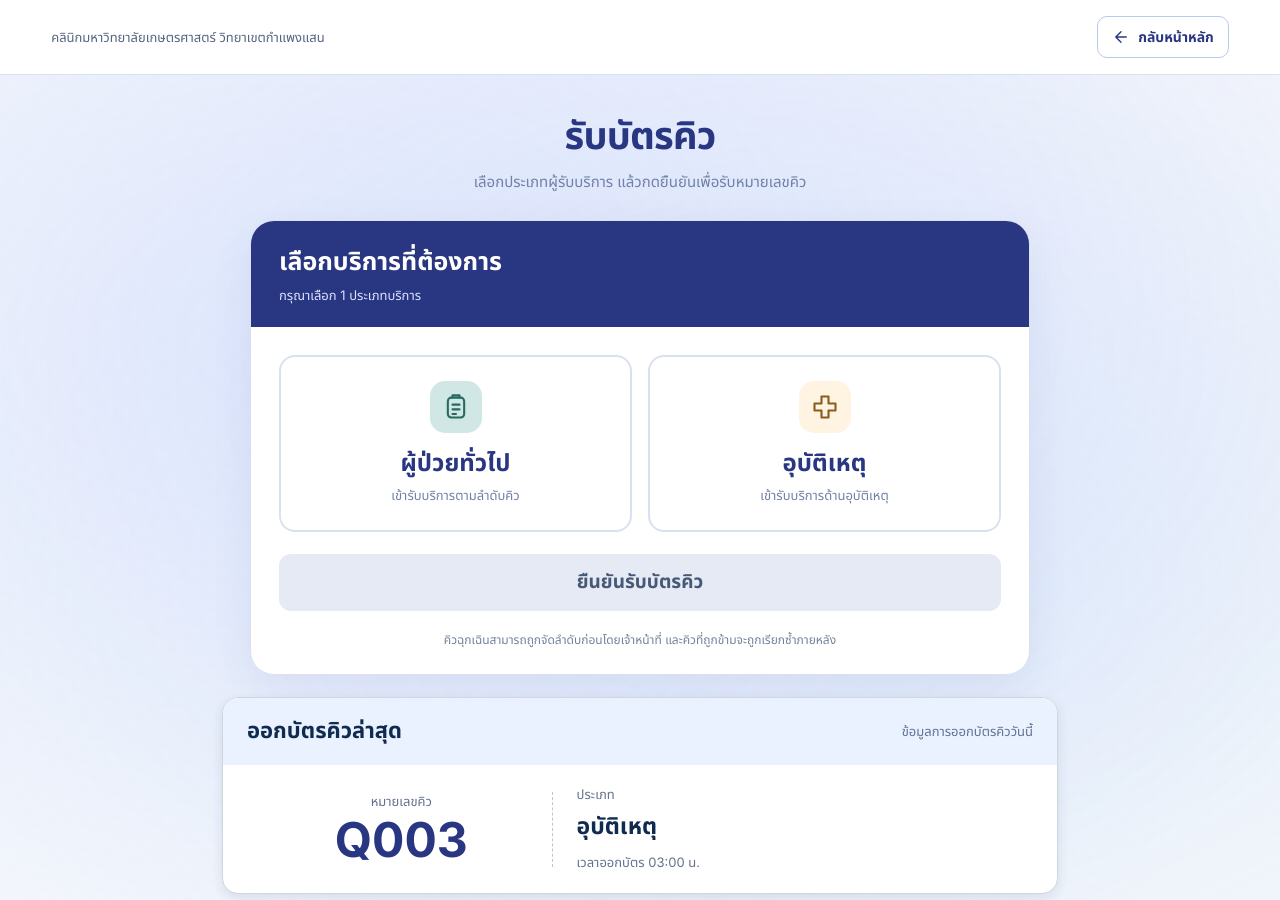
Scenario: application routes › keeps the latest issued ticket visible after choosing not to print
Expected: the text "ออกบัตรคิวล่าสุด" is shown, [247,715,402,748]
Click the text "ผู้ป่วยทั่วไป". click: (456, 463)
box: [400,445,511,481]
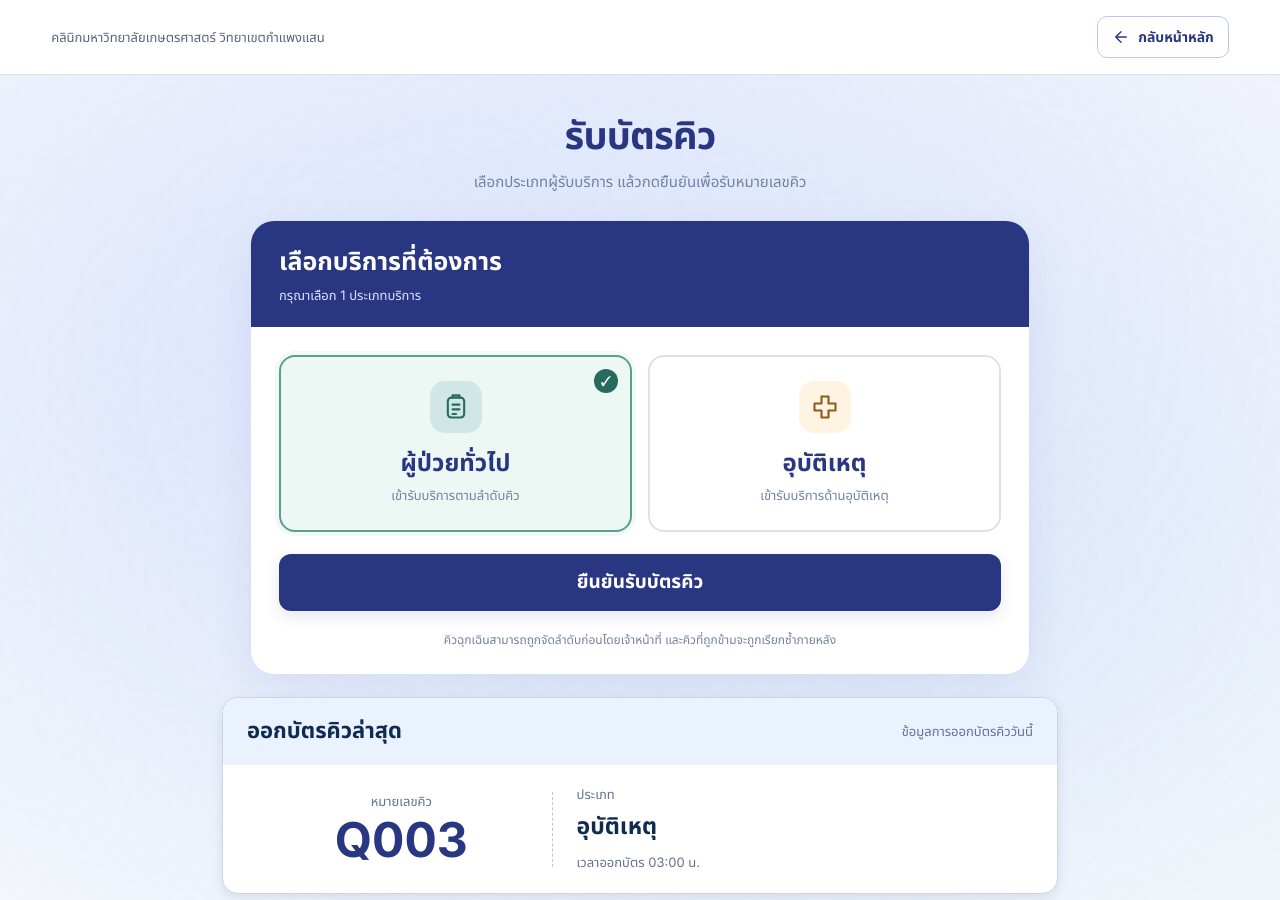
Click the button "ยืนยันรับบัตรคิว". click: (640, 582)
box: [279,554,1001,611]
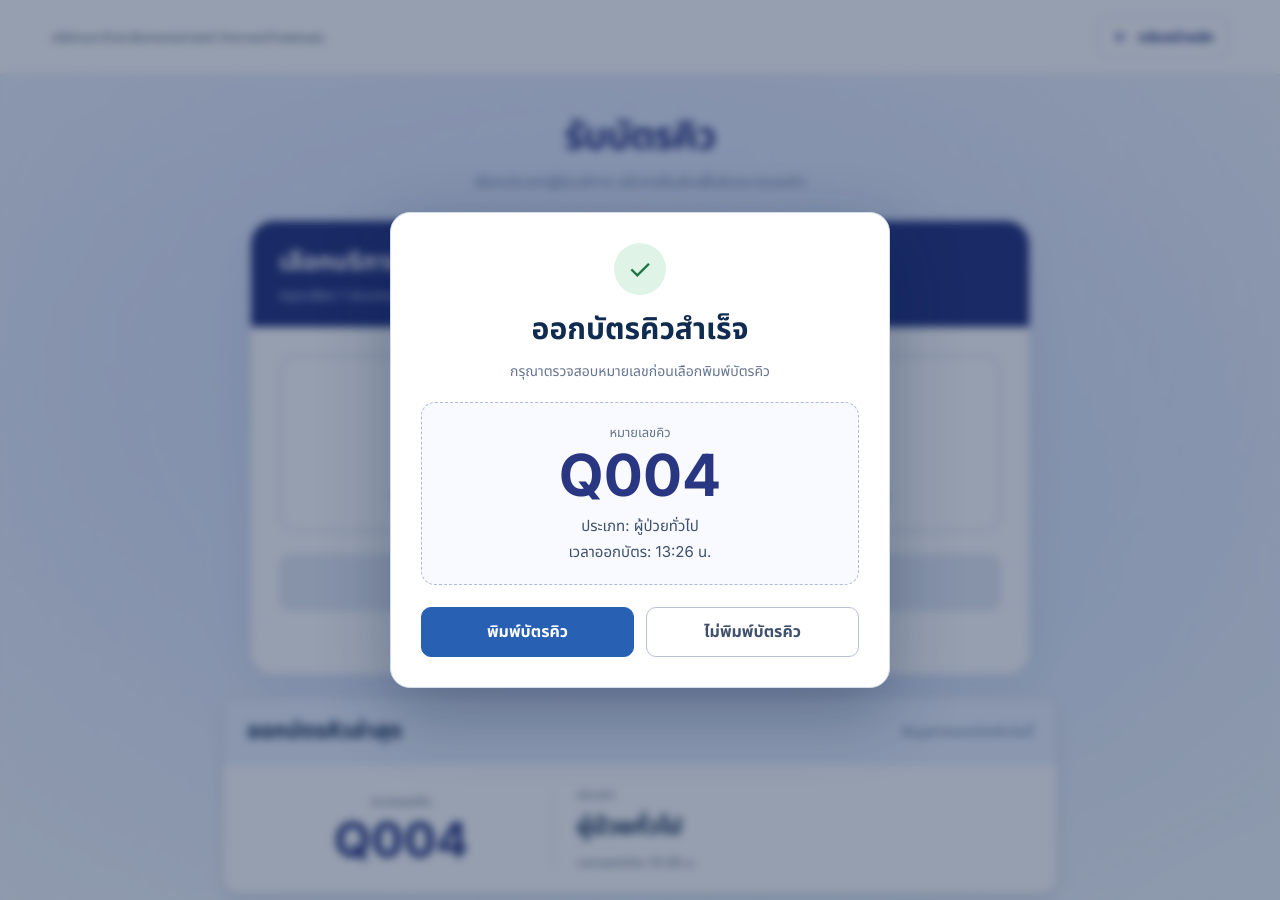
Result: the dialog is shown at [390,212,890,688]
Click the button "ไม่พิมพ์บัตรคิว". click: (752, 632)
box: [646,607,859,657]
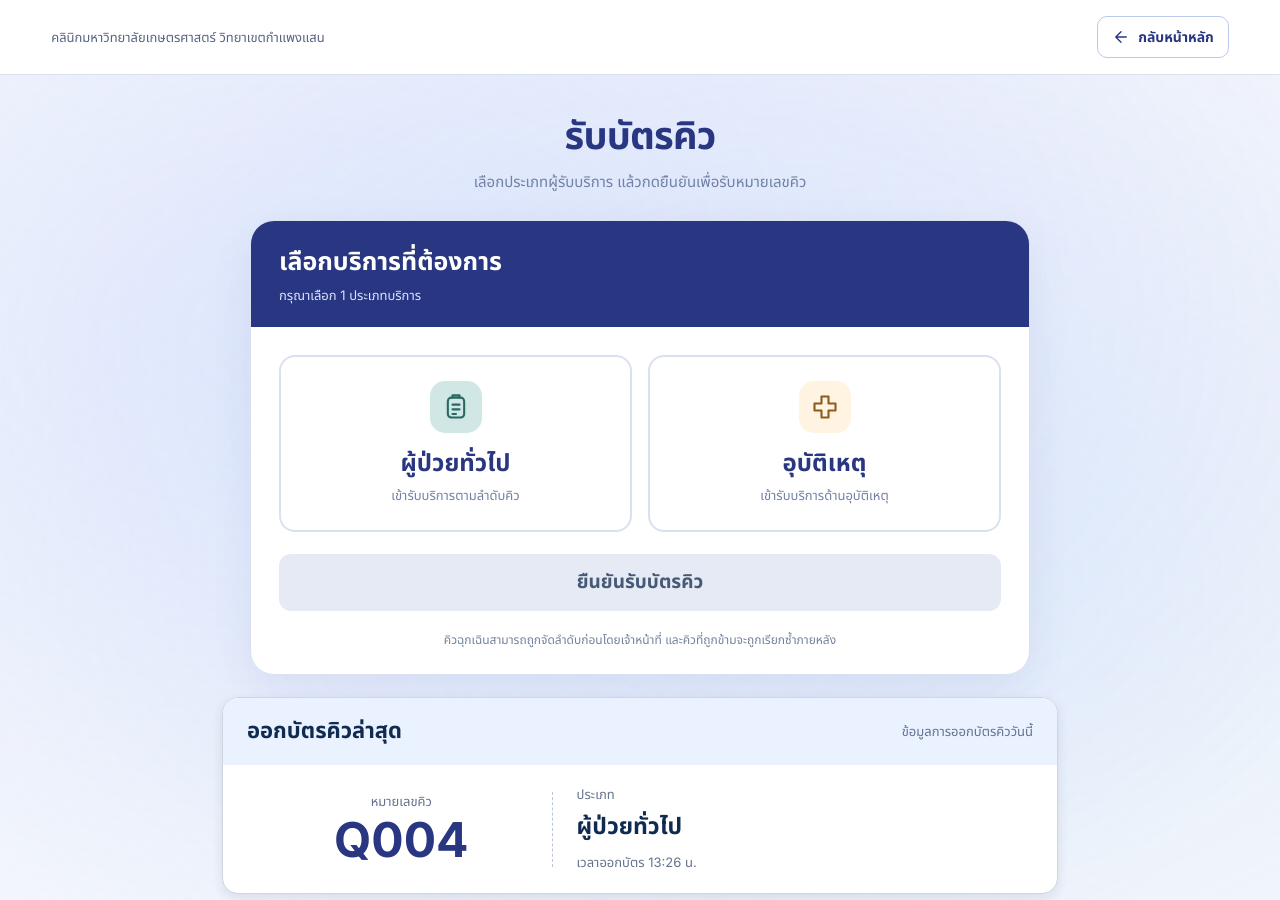
Result: the text "Q004" is shown at [334,814,468,867]
Result: the dialog is gone
